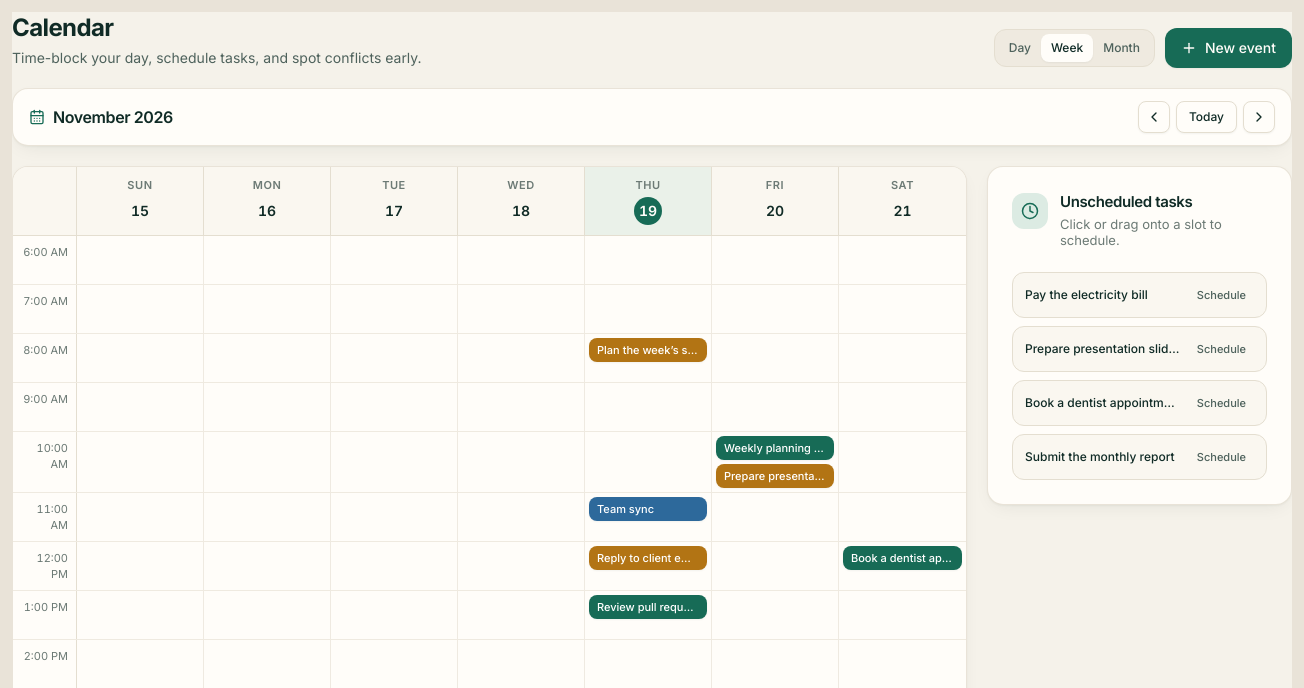
Test: CalendarPage › renders week view, switches between day/week/month, and shows unscheduled tasks
Expected: the button "Team sync" is shown, [589,497,707,521]
Expected: the heading "Unscheduled tasks" is shown, [1060,192,1192,211]
Click the radio button labelled "Day" at x=1020, y=48, box [999,34,1041,62]
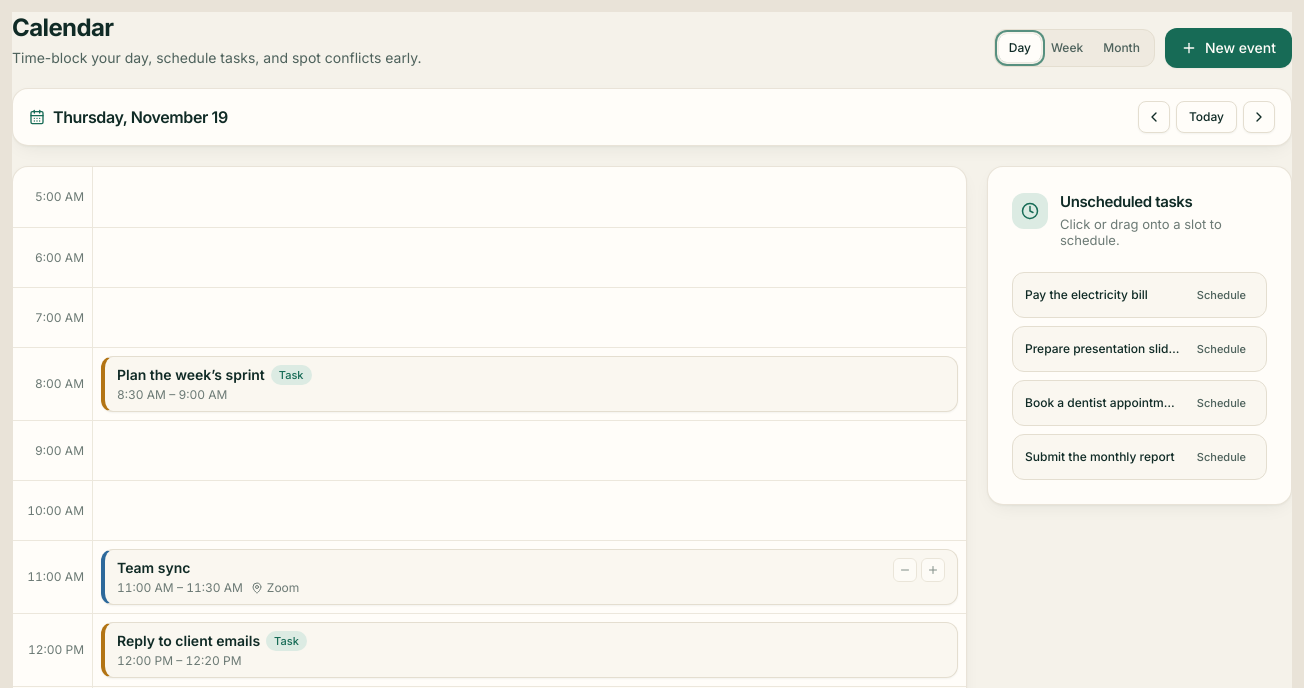
Expected: the text "Team sync" is shown, [117,558,190,578]
Click the radio button labelled "Month" at x=1122, y=48, box [1093,34,1150,62]
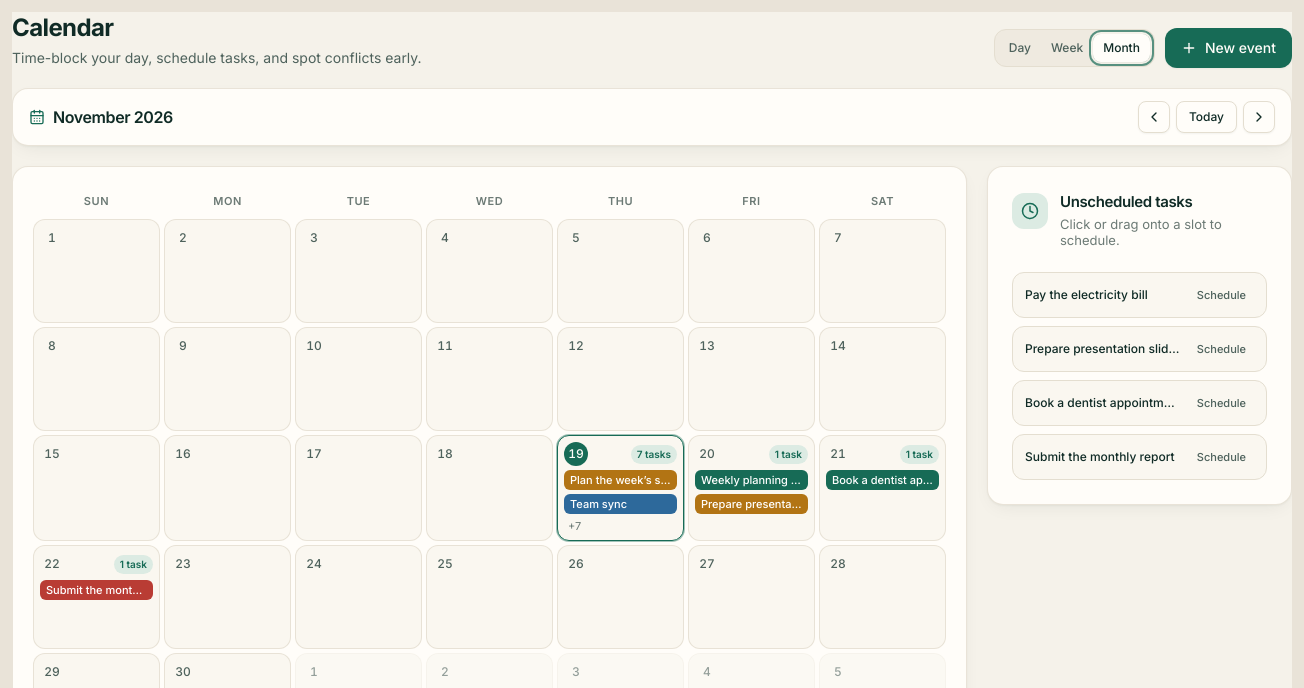
Now the button "Team sync" is shown, box [564,494,677,514]
